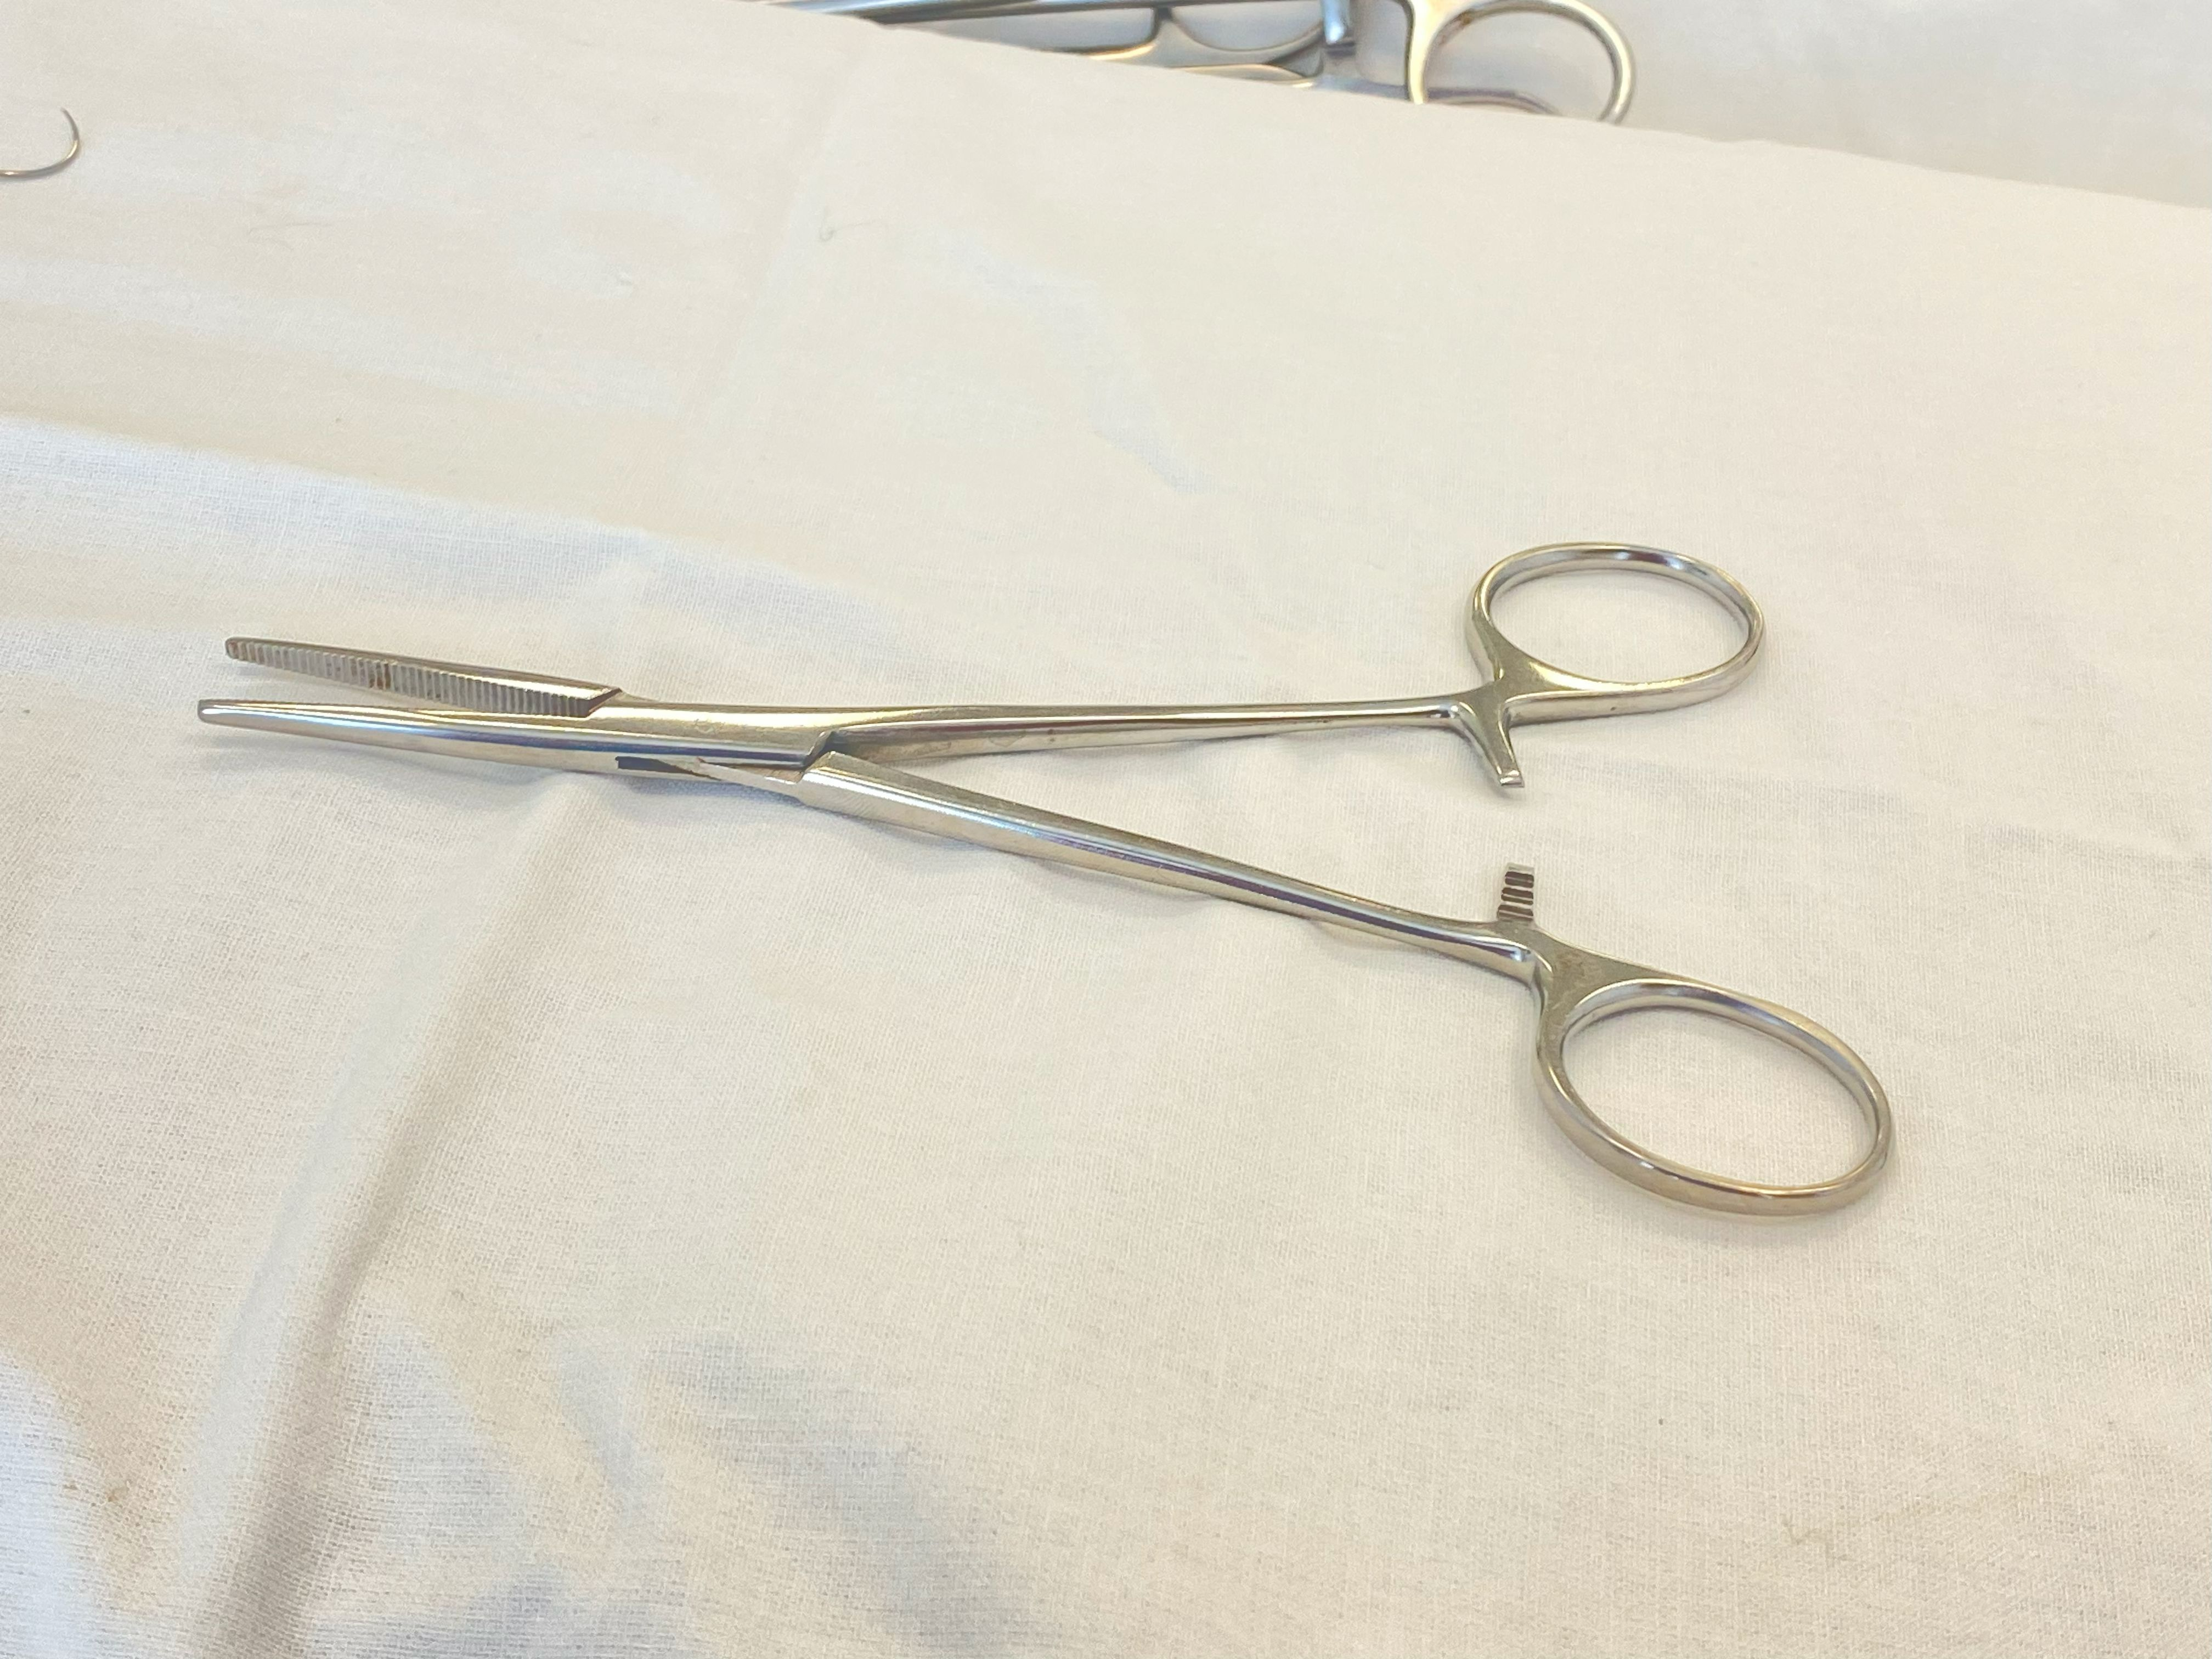clamp: (197, 542, 1893, 1216)
